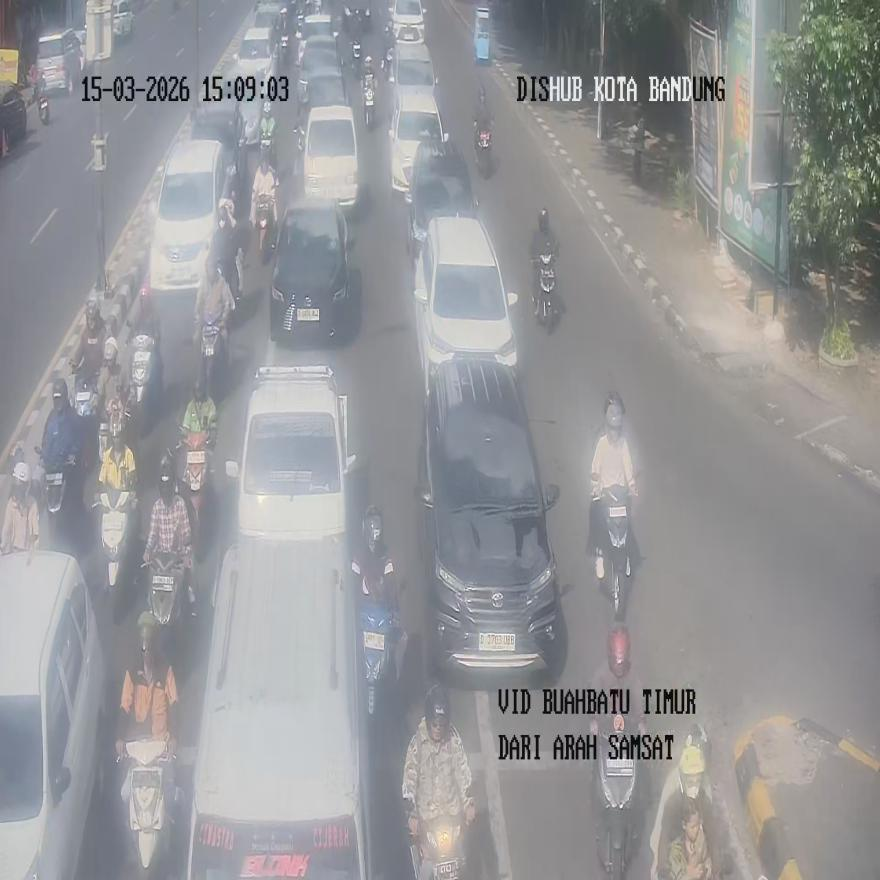Mobil: (186, 537, 370, 878), (416, 358, 561, 673), (0, 548, 108, 878), (226, 365, 356, 542), (414, 215, 519, 398), (269, 196, 354, 346), (149, 139, 226, 294), (407, 133, 479, 259)
Motor: (118, 735, 179, 876), (591, 716, 643, 880), (359, 574, 407, 718), (403, 793, 472, 880), (92, 487, 136, 612), (176, 422, 215, 548), (596, 487, 632, 620), (141, 549, 190, 646), (34, 447, 77, 550), (125, 330, 161, 420), (216, 199, 243, 303), (198, 314, 228, 405), (532, 253, 556, 330), (69, 359, 100, 418), (253, 192, 275, 264), (474, 119, 492, 177), (32, 69, 50, 125), (260, 107, 276, 167), (382, 26, 394, 77), (364, 77, 374, 128), (351, 38, 362, 77)
